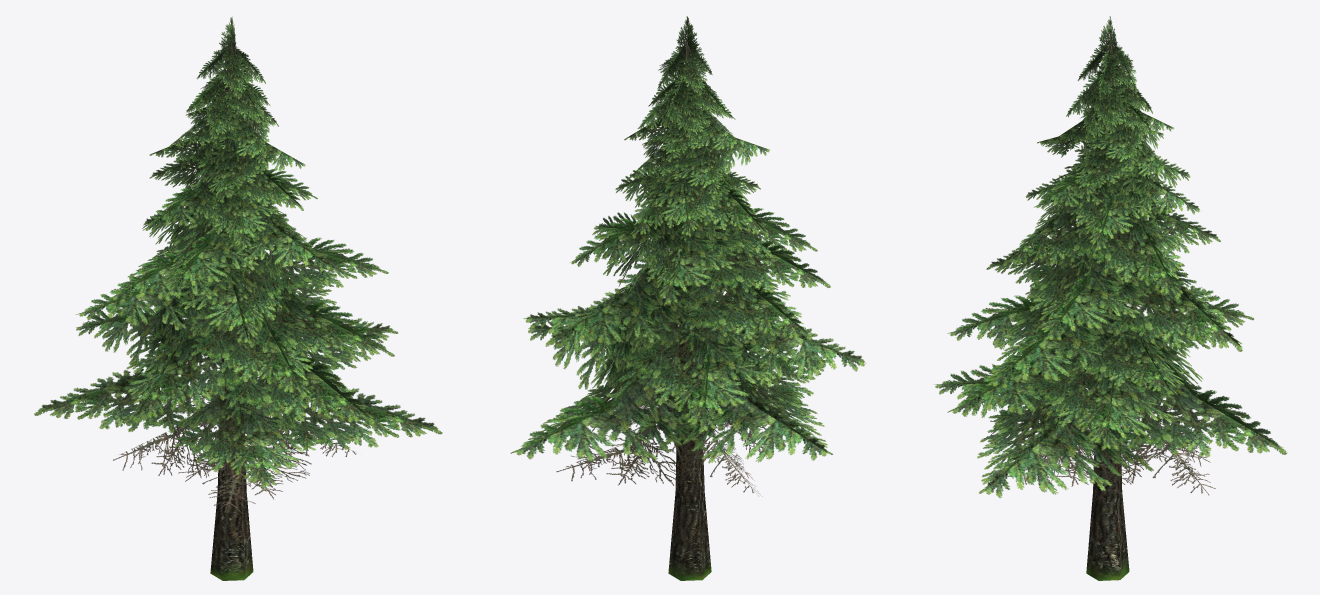
The model's file is tree4_5.glb.
The picture shows the model from 3 angles, left to right: view 1: azimuth 30°, elevation 25°; view 2: azimuth 150°, elevation 25°; view 3: azimuth 270°, elevation 25°; orthographic projection.
Visible parts, largest first — view 1: tree4_5-col; view 2: tree4_5-col; view 3: tree4_5-col.
Part boxes in pixels (<box>): tree4_5-col: <box>34,16,442,580</box>; tree4_5-col: <box>510,16,866,580</box>; tree4_5-col: <box>934,16,1287,580</box>.
Bounding box in the file's own units: 4.8 × 6.96 × 4.4.
3 materials, 3 textured.
